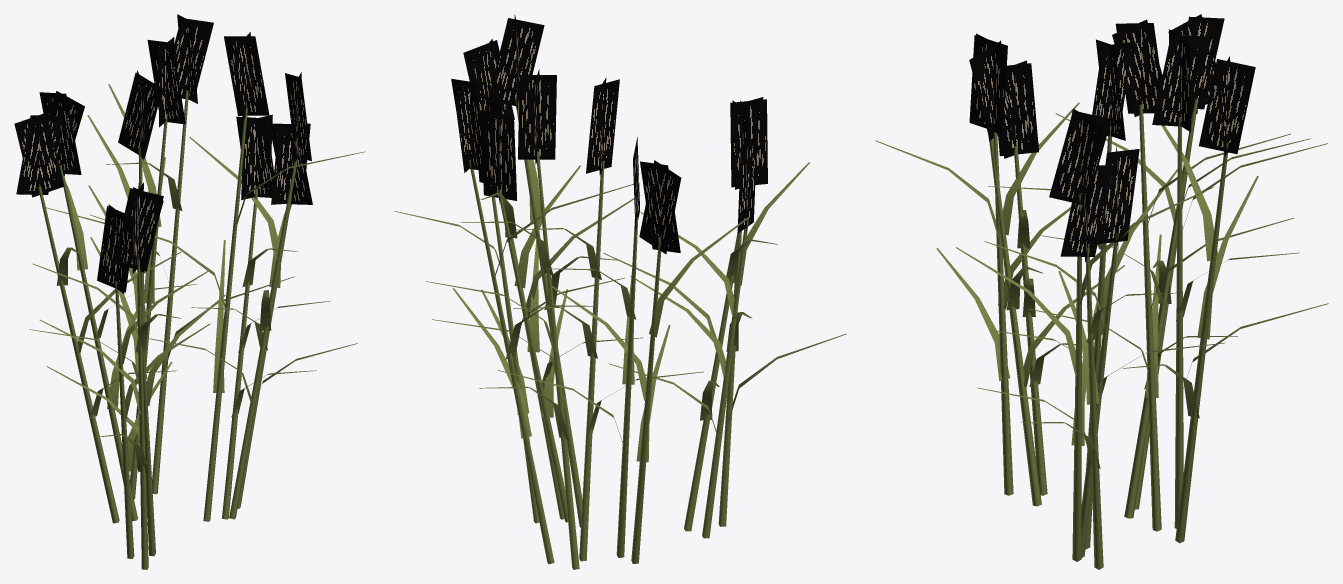
File: caral_cana_brava_lod0.glb
3 views of the same model, side by side, from view 1: azimuth 30°, elevation 25°; view 2: azimuth 150°, elevation 25°; view 3: azimuth 270°, elevation 25° (orthographic). The views are drawn at different scales.
Visible parts, largest first — view 1: GEO-Kit_cana_brava_LOD0; view 2: GEO-Kit_cana_brava_LOD0; view 3: GEO-Kit_cana_brava_LOD0.
Part boxes in pixels (x1,y1,x2,y2): GEO-Kit_cana_brava_LOD0: (14,14,365,569); GEO-Kit_cana_brava_LOD0: (394,14,846,569); GEO-Kit_cana_brava_LOD0: (875,14,1328,569).
Size of the model in its own units: 3.15 by 4.47 by 3.44.
Materials: 2 (1 with a texture image).
